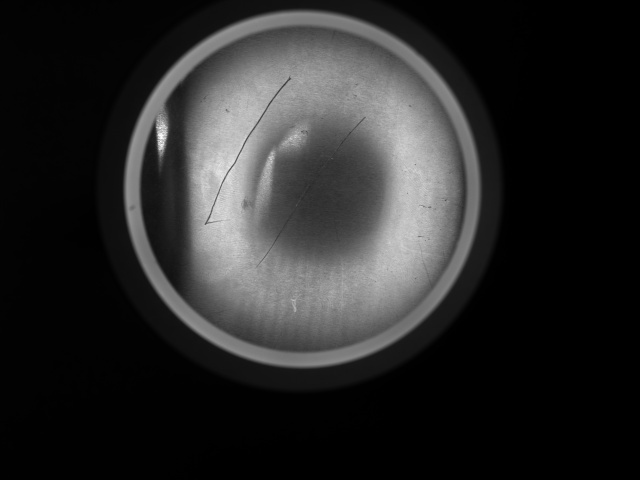ca_shang: (253, 112, 369, 271), (201, 74, 295, 227)
